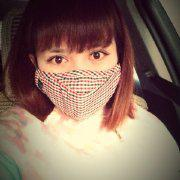OK: (37, 39, 118, 120)
